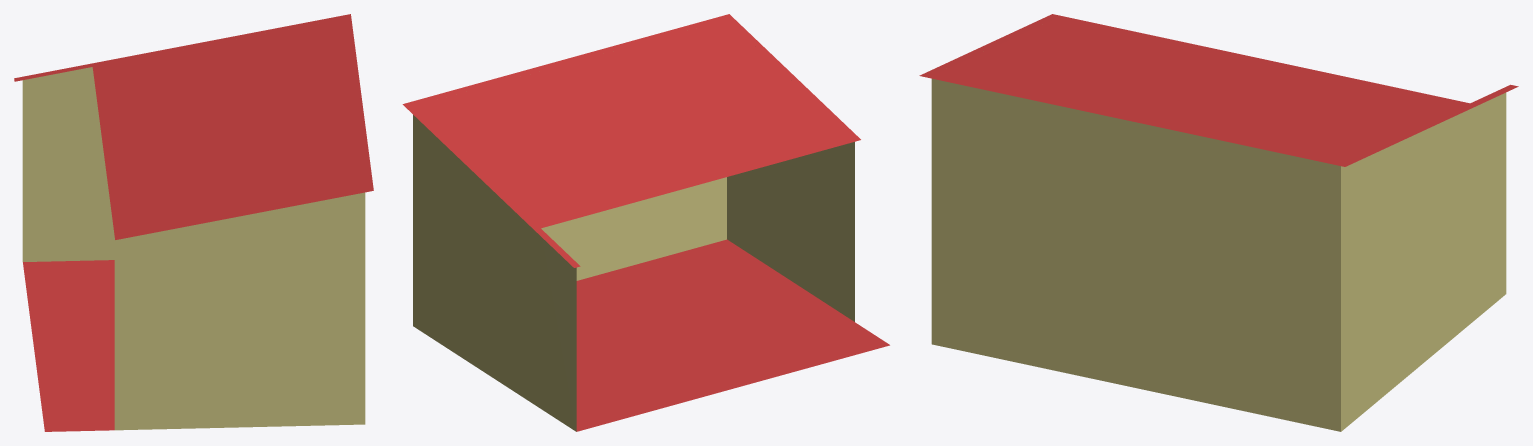
3 views of the same model, side by side, from view 1: azimuth 30°, elevation 25°; view 2: azimuth 150°, elevation 25°; view 3: azimuth 270°, elevation 25° (orthographic). The views are drawn at different scales.
Size of the model in its own units: 14.45 by 15.87 by 7.89.
